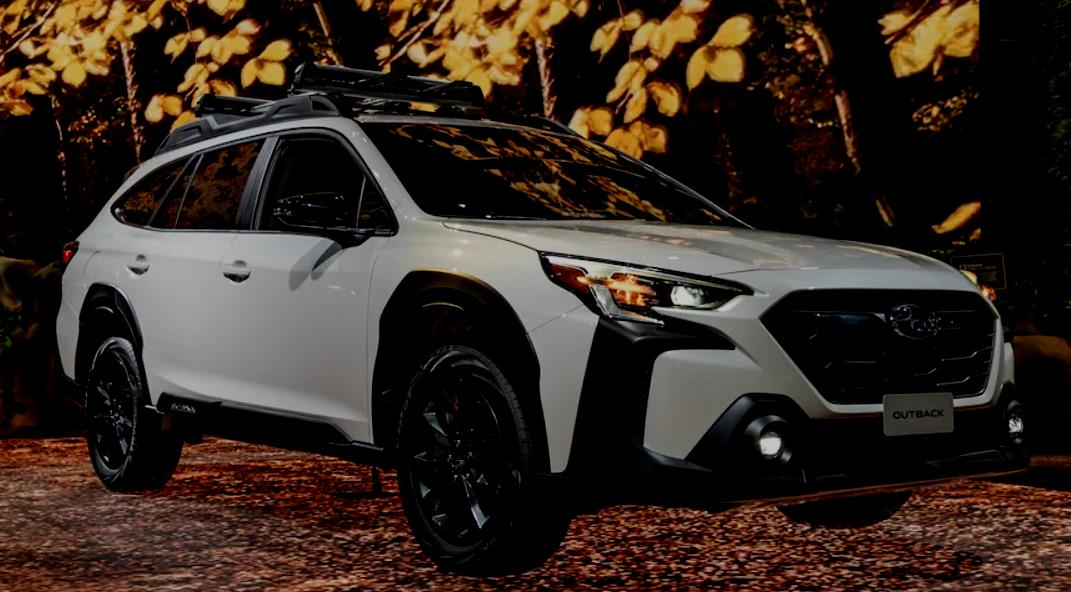subaru: (876, 300, 964, 344)
